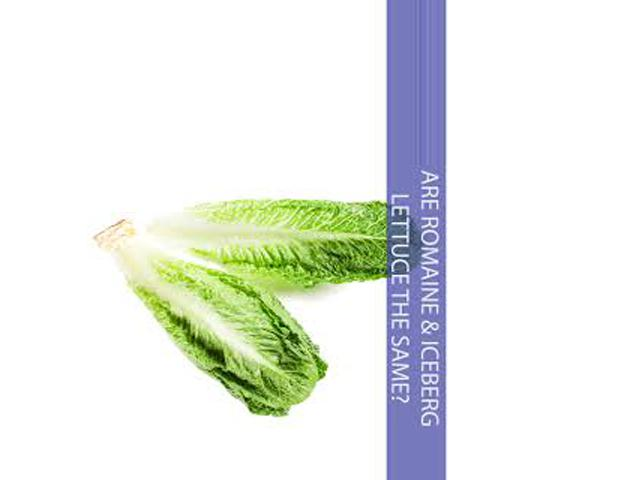lettuce: (62, 218, 339, 405)
